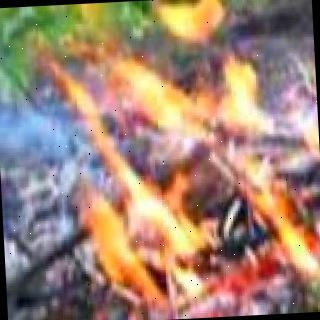fire: (38, 55, 279, 303), (283, 179, 320, 292), (293, 49, 320, 189)
